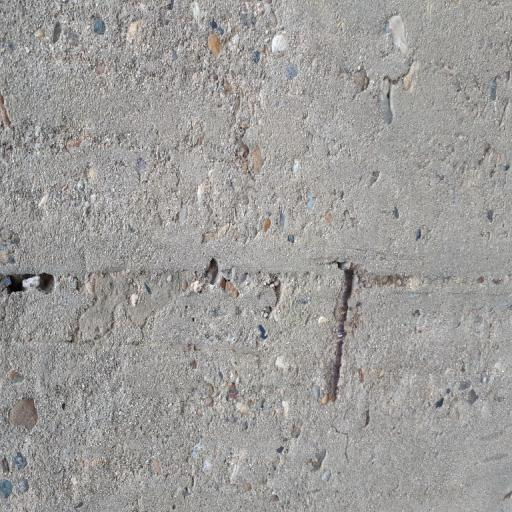exposed_rebar: (330, 268, 353, 402)
